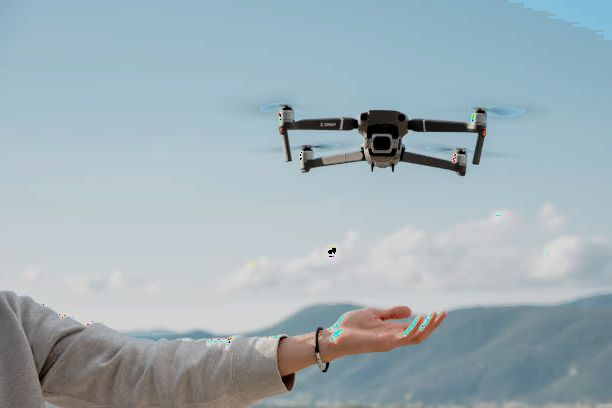Drone: (240, 88, 522, 183)
